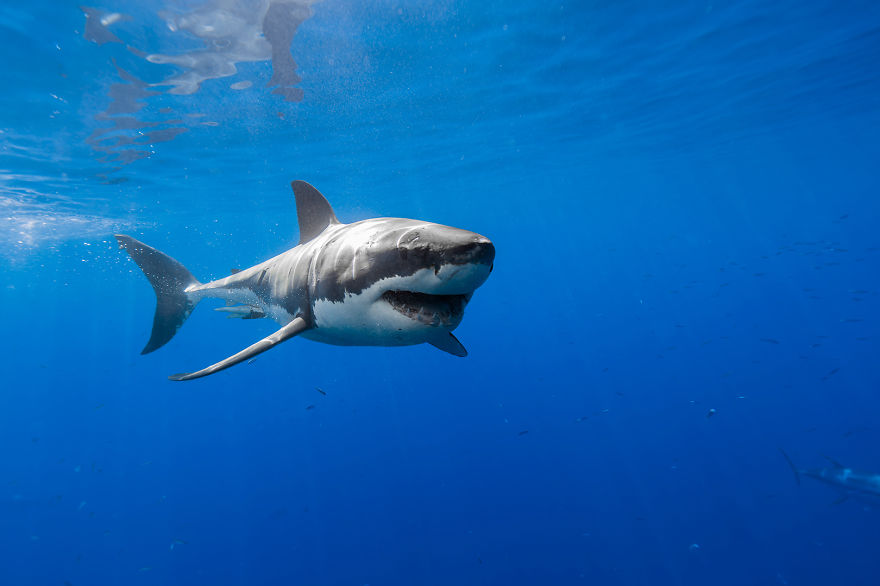shark: (109, 172, 505, 387)
